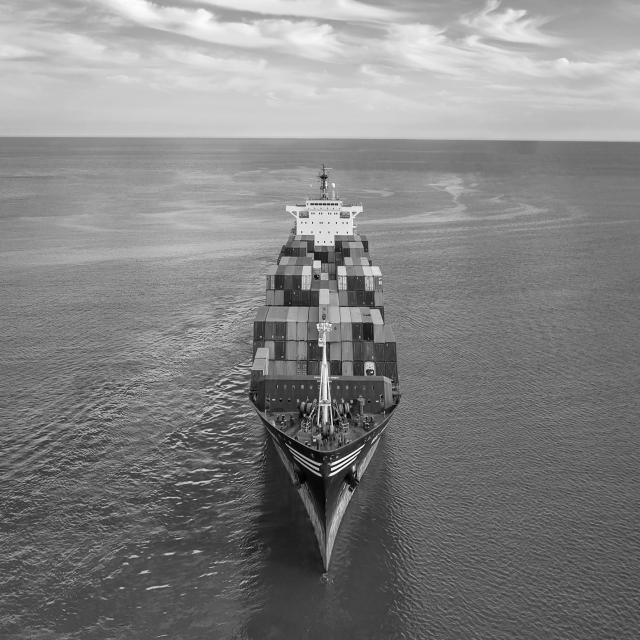Container Ship: (246, 160, 404, 590)
